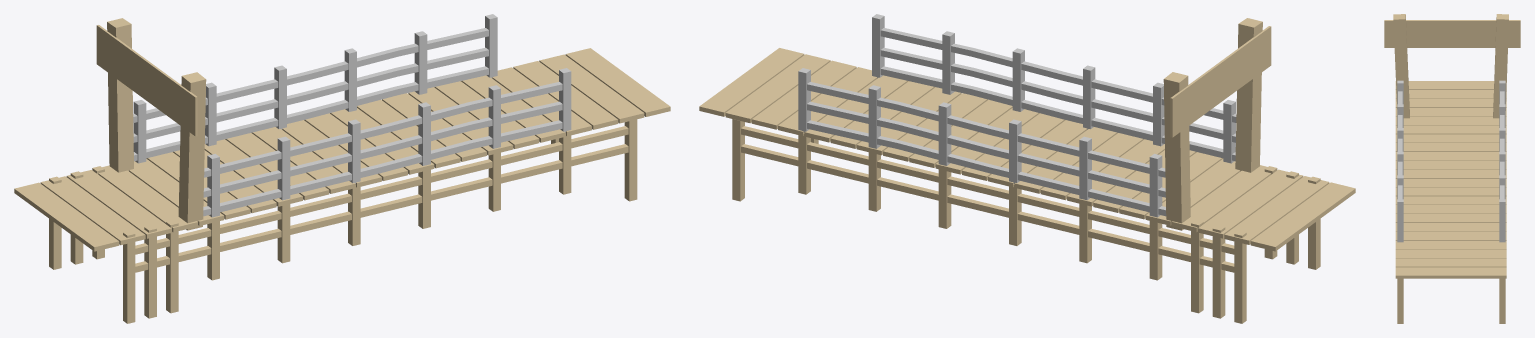
The model's file is bridge.fbx.
3 views of the same model, side by side, from view 1: azimuth 30°, elevation 25°; view 2: azimuth 150°, elevation 25°; view 3: azimuth 270°, elevation 25° (orthographic). The views are drawn at different scales.
Visible parts, largest first — view 1: Box051, Box138, Box139, Box136, Box137; view 2: Box051, Box137, Box138, Box139, Box136; view 3: Box051, Box139, Box137, Box138, Box136.
Part boxes in pixels (<box>): Box051: <box>14,18,670,323</box>; Box138: <box>414,31,427,94</box>; Box139: <box>485,14,497,78</box>; Box136: <box>274,65,286,129</box>; Box137: <box>344,48,356,111</box>; Box051: <box>699,14,1355,323</box>; Box137: <box>938,102,951,165</box>; Box138: <box>868,85,880,148</box>; Box139: <box>798,68,810,132</box>; Box136: <box>1009,119,1021,183</box>; Box051: <box>1384,14,1520,323</box>; Box139: <box>1499,199,1505,242</box>; Box137: <box>1499,151,1505,175</box>; Box138: <box>1499,175,1505,199</box>; Box136: <box>1499,128,1505,151</box>.
Bounding box in the file's own units: 133 × 50.49 × 39.47.
